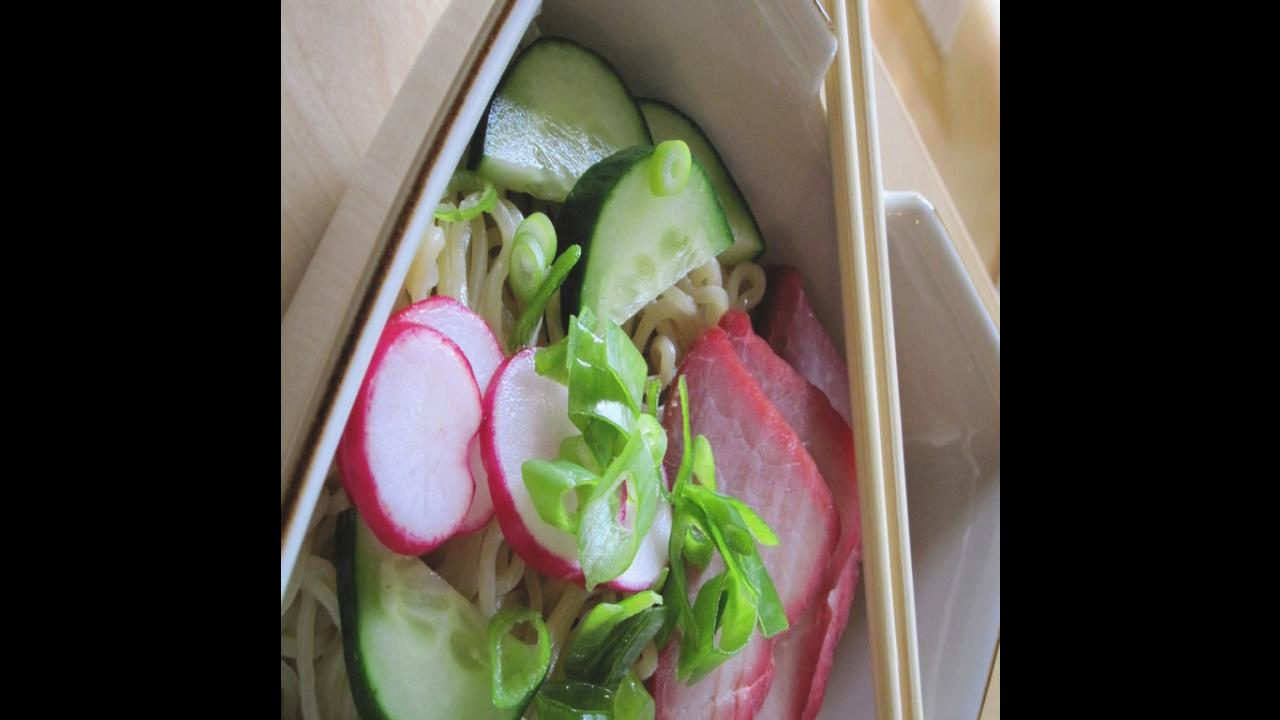chopstick: (788, 0, 944, 720)
